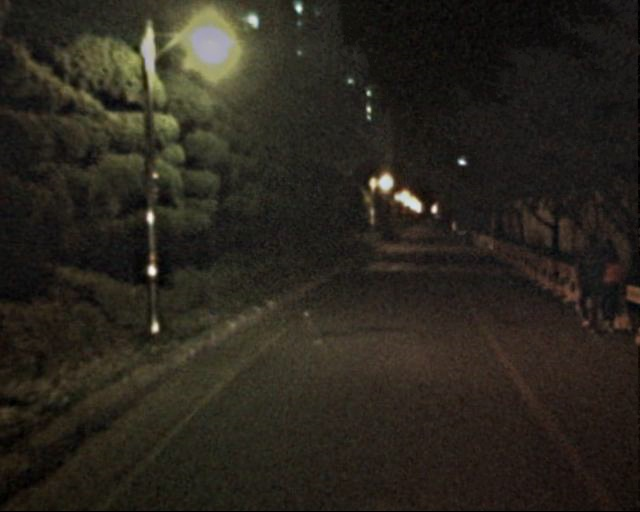person: (569, 237, 611, 335), (591, 241, 627, 329)
